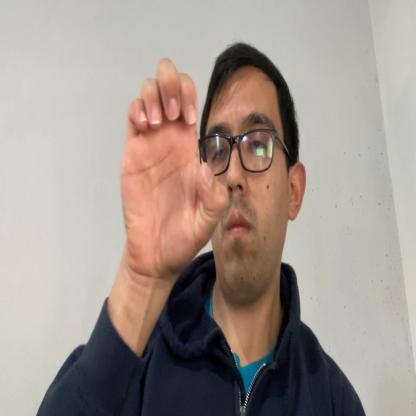E: (120, 55, 229, 275)
